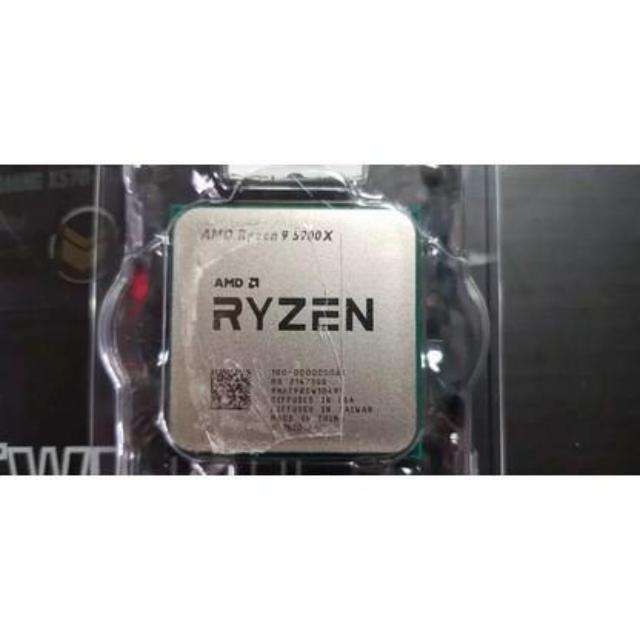CPU: (167, 207, 419, 453)
